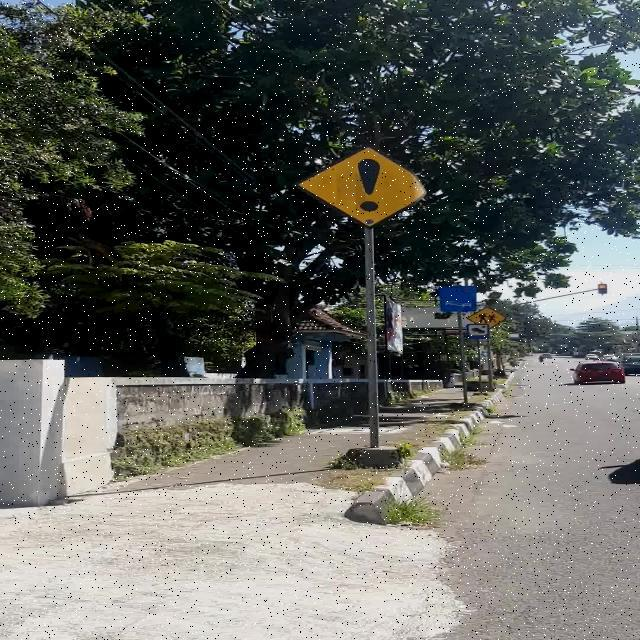Hati-Hati: (294, 144, 426, 229)
